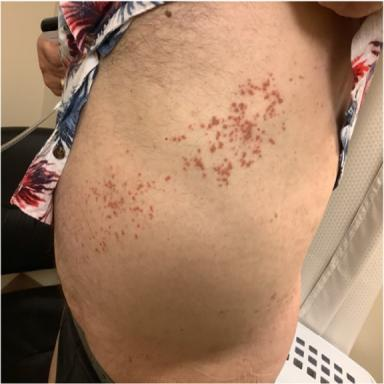Darier_s-Disease: (163, 68, 286, 188), (84, 170, 158, 257)
